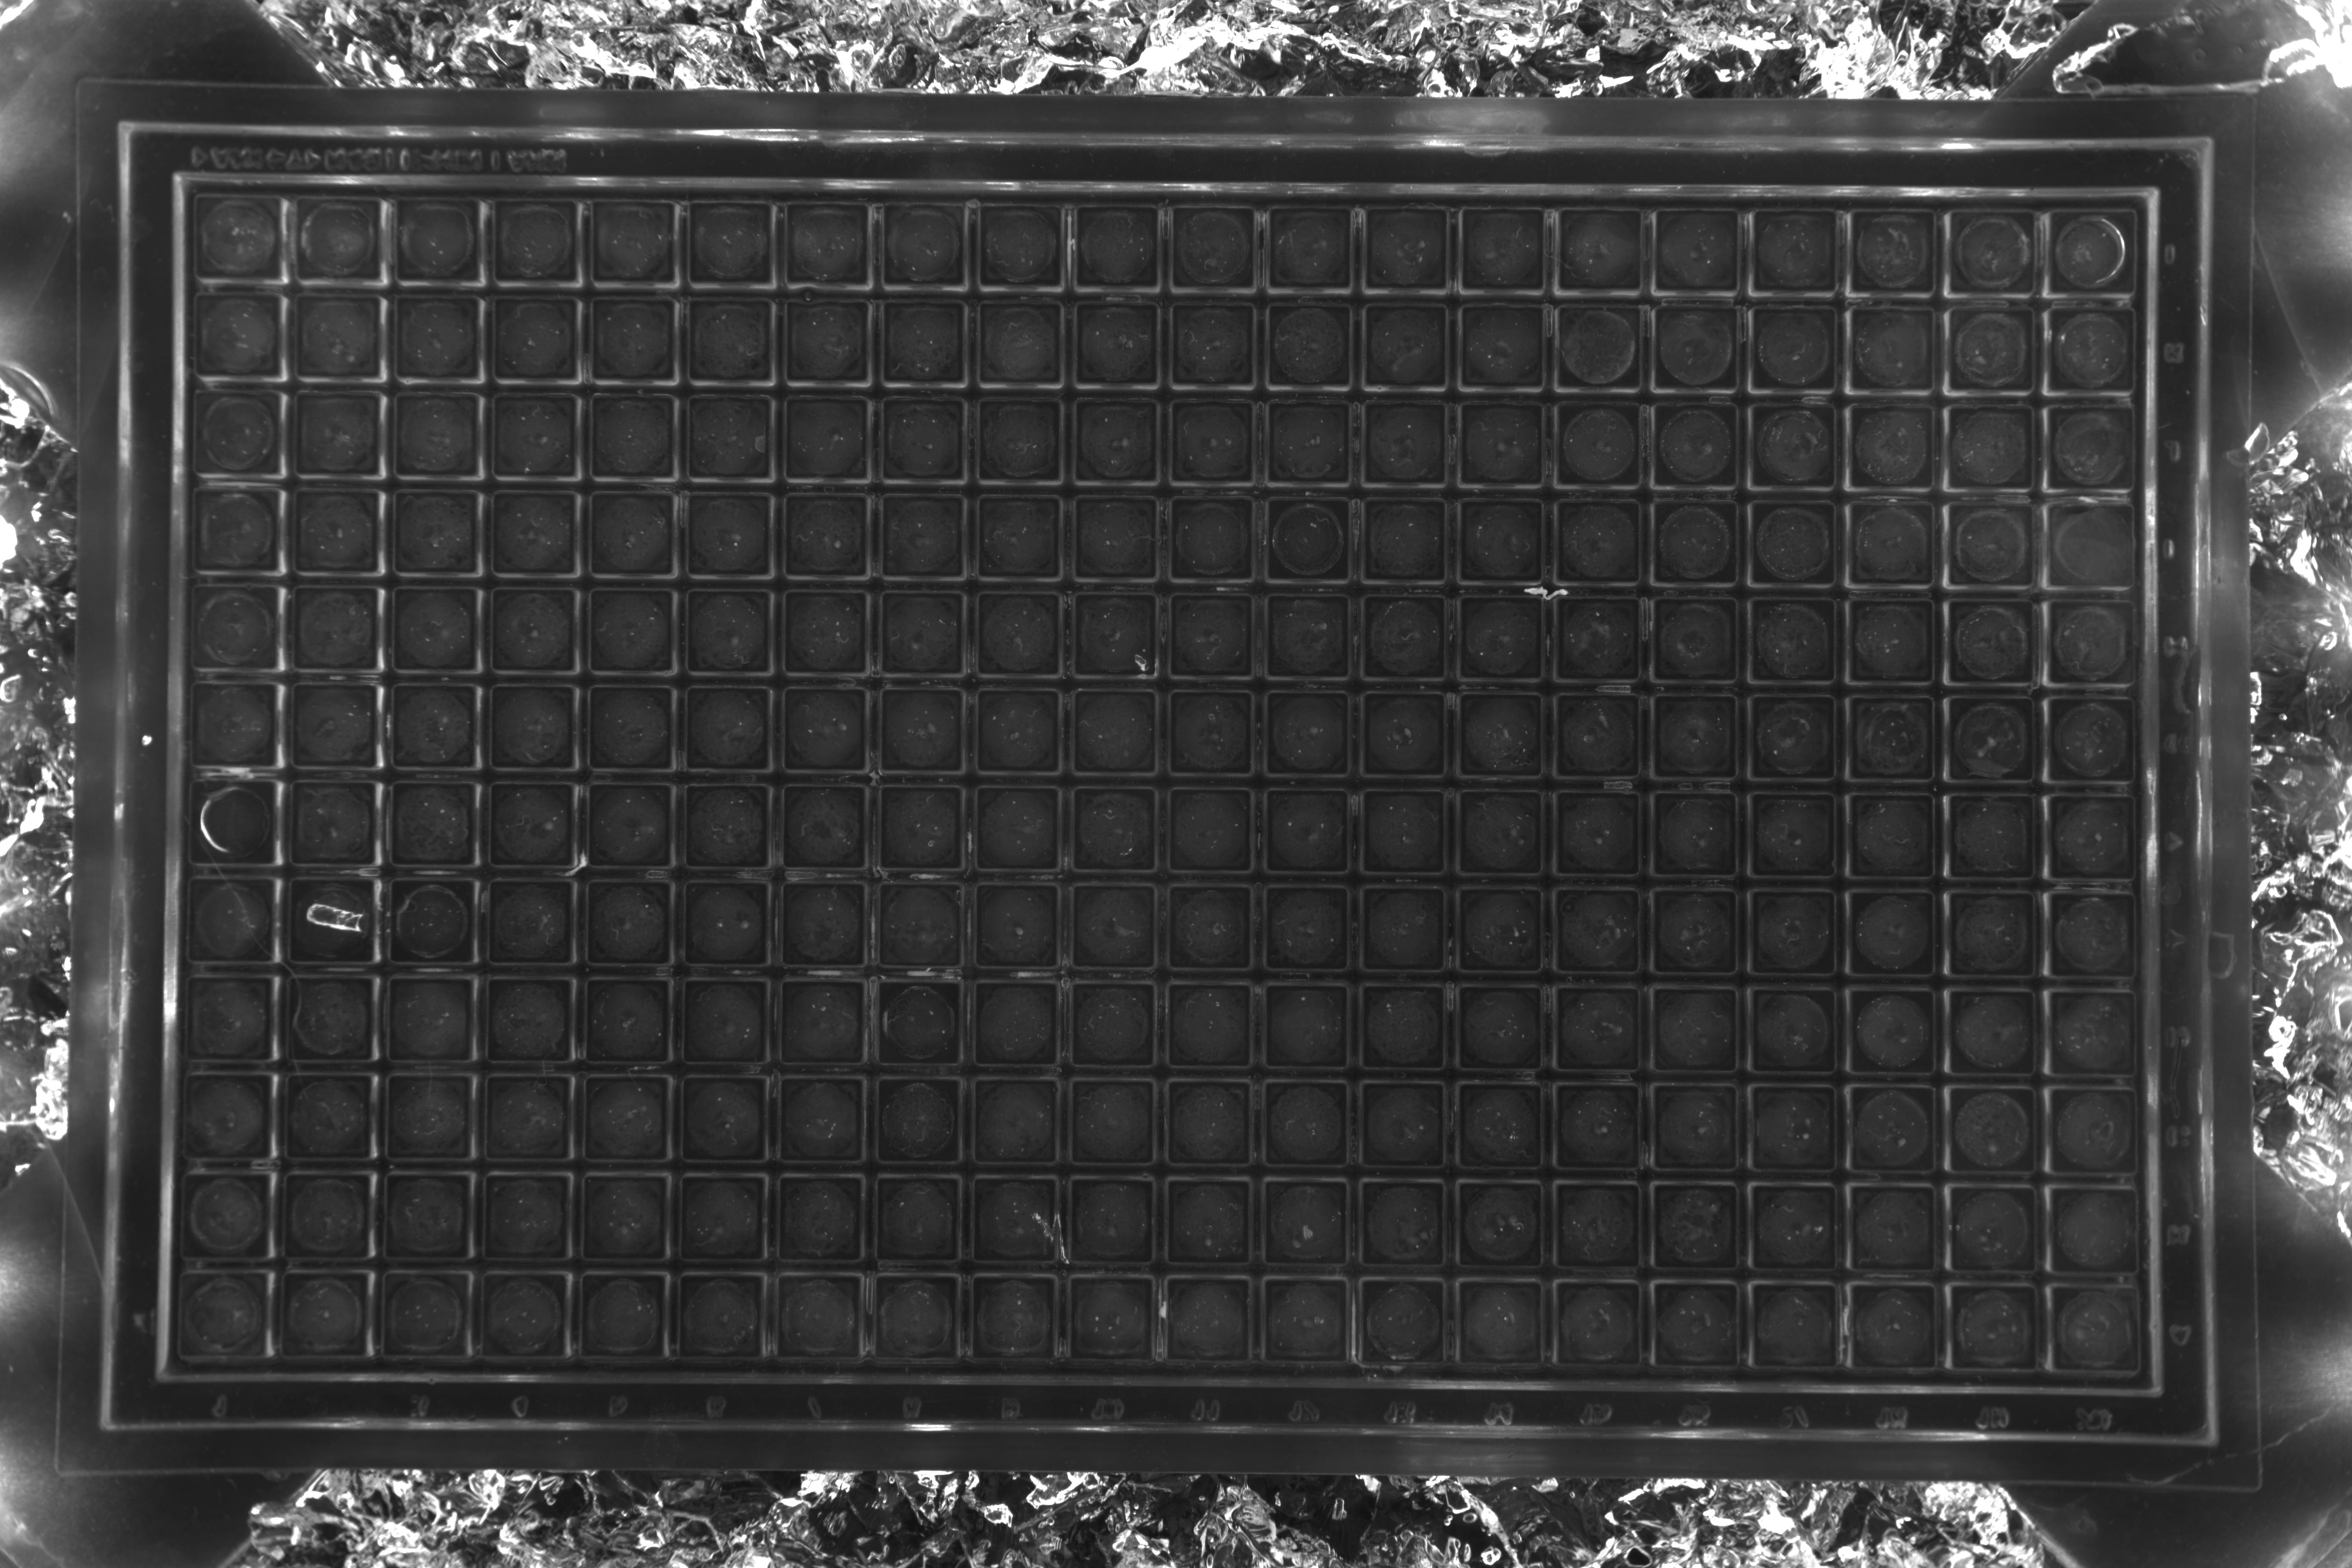WM_well: (789, 558, 878, 646), (488, 1241, 576, 1328), (490, 1143, 577, 1230), (693, 268, 780, 355), (693, 364, 780, 451), (882, 1337, 969, 1424), (884, 1141, 971, 1228), (887, 656, 975, 744), (980, 1337, 1067, 1424), (983, 656, 1071, 744), (983, 850, 1071, 938), (1078, 1337, 1165, 1424), (1176, 656, 1263, 744), (1272, 269, 1360, 357), (1274, 1241, 1361, 1328), (1370, 948, 1458, 1036), (1466, 560, 1554, 647), (1563, 366, 1650, 453), (1666, 1246, 1753, 1333), (1760, 658, 1848, 745), (1860, 854, 1948, 941), (2058, 658, 2145, 745)
